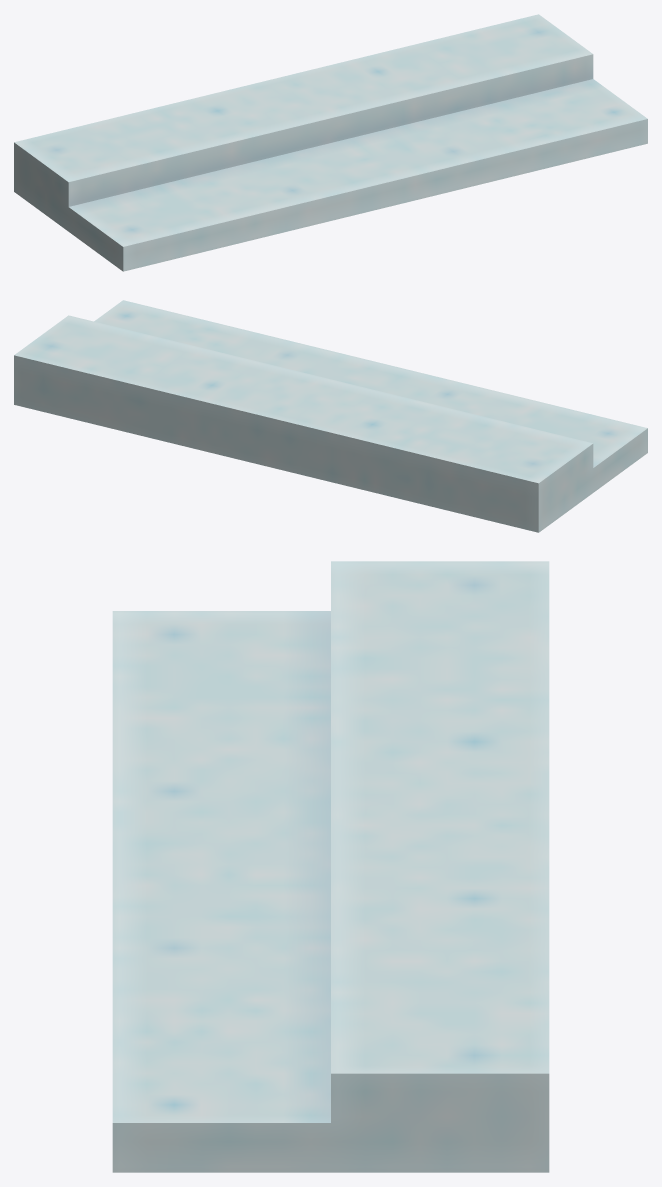
File: jsf_DisplayShelf_05.fbx
3 renders of one model, top to bottom at view 1: azimuth 30°, elevation 25°; view 2: azimuth 150°, elevation 25°; view 3: azimuth 270°, elevation 25°, orthographic. The views are drawn at different scales.
Visible parts, largest first — view 1: jsf_DisplayShelf_05; view 2: jsf_DisplayShelf_05; view 3: jsf_DisplayShelf_05.
Part boxes in pixels (left/top/right/bottom): jsf_DisplayShelf_05: left=14, top=14, right=647, bottom=271; jsf_DisplayShelf_05: left=14, top=300, right=647, bottom=532; jsf_DisplayShelf_05: left=112, top=561, right=549, bottom=1172.
Bounding box in the file's own units: 55.5 × 5 × 20.
